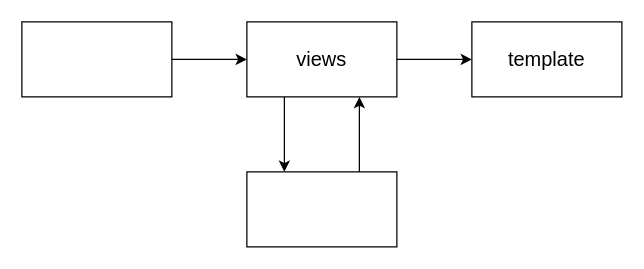
The diagram is 644 pixels wide and 269 high, and some of its shapes have lost their labels. Each missing label, with the box of its shape:
models: (246, 171, 397, 247)
urls: (21, 21, 172, 97)
